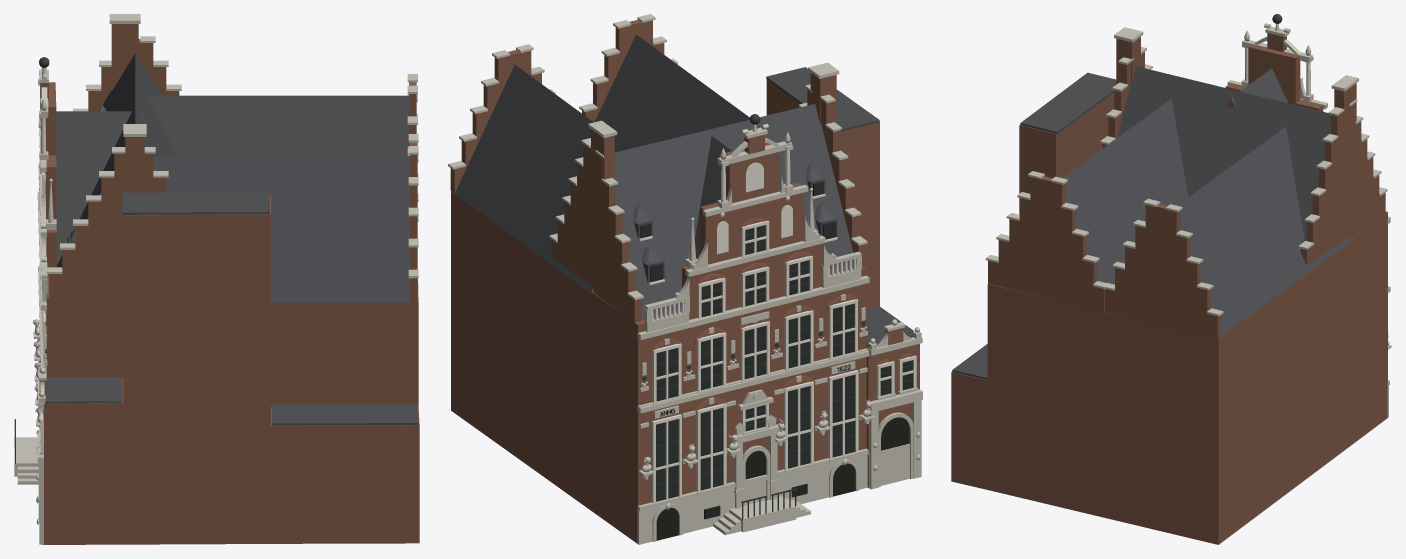
Rendered from huis-met-de-hoofden.glb.
3 renders of one model, left to right at view 1: azimuth 30°, elevation 25°; view 2: azimuth 150°, elevation 25°; view 3: azimuth 270°, elevation 25°, orthographic. The views are drawn at different scales.
Parts seen in each view (by area): view 1: huis-met-de-hoofden; view 2: huis-met-de-hoofden; view 3: huis-met-de-hoofden.
Boxes of the visible parts, x1=… form: huis-met-de-hoofden: x1=14, y1=14, x2=419, y2=544; huis-met-de-hoofden: x1=448, y1=14, x2=922, y2=544; huis-met-de-hoofden: x1=951, y1=14, x2=1391, y2=544.
Bounding box in the file's own units: 25.58 × 23.05 × 24.43.
